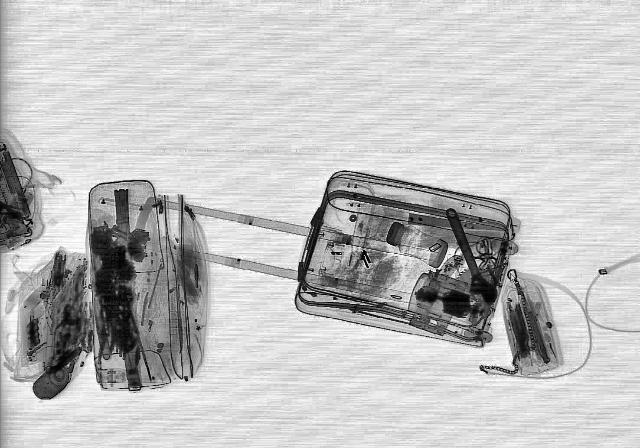Wrench: (434, 205, 502, 306)
